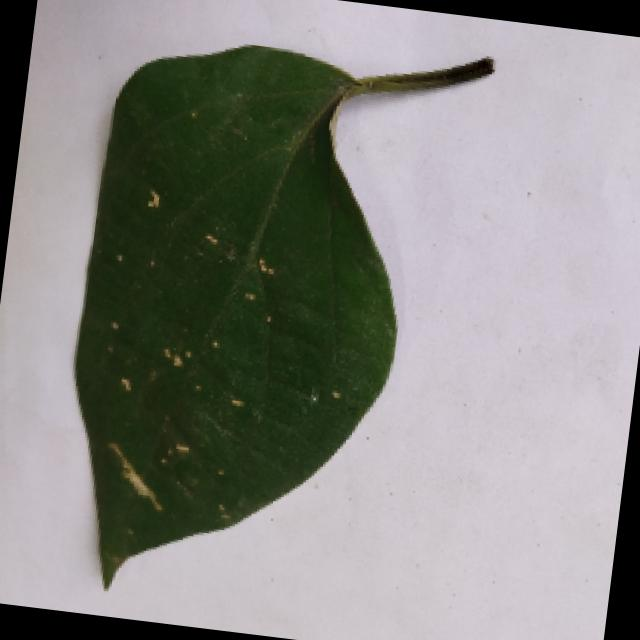pollu-disease: (46, 13, 483, 626)
